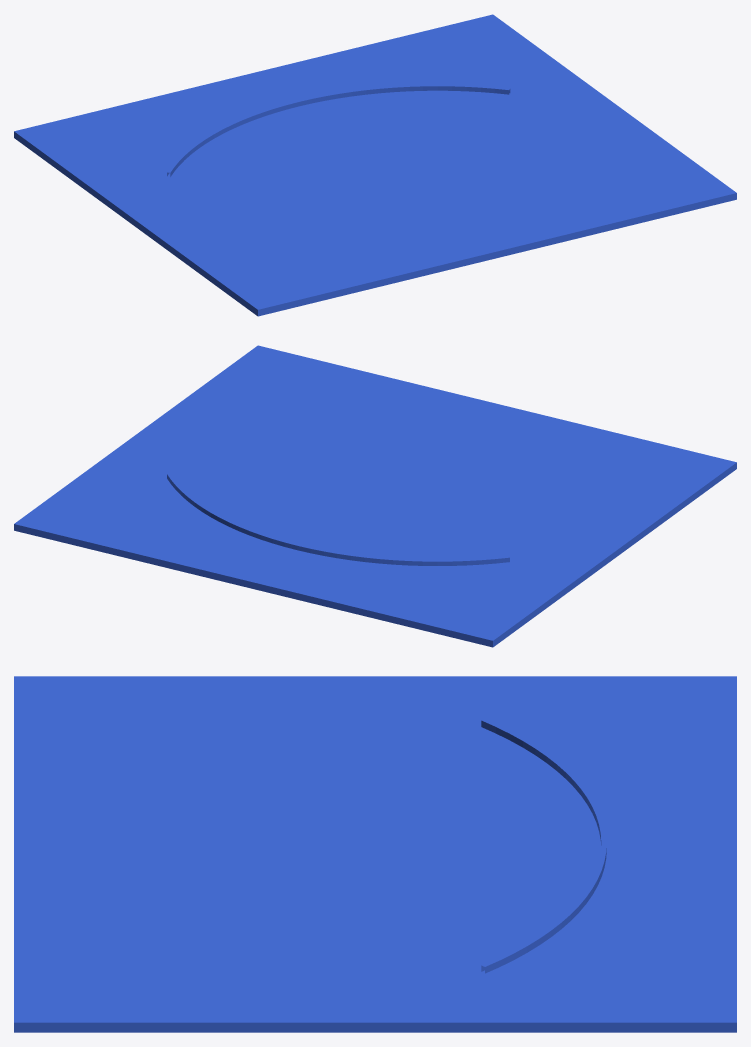
The model's file is colliders.glb.
The picture shows the model from 3 angles, top to bottom: view 1: azimuth 30°, elevation 25°; view 2: azimuth 150°, elevation 25°; view 3: azimuth 270°, elevation 25°; orthographic projection. The views are drawn at different scales.
Visible parts, largest first — view 1: Colliders; view 2: Colliders; view 3: Colliders.
Part boxes in pixels (x1,y1,x2,y2): Colliders: (14, 14, 736, 316); Colliders: (14, 345, 736, 647); Colliders: (14, 676, 736, 1032).
Bounding box in the file's own units: 229 × 5.09 × 202.
